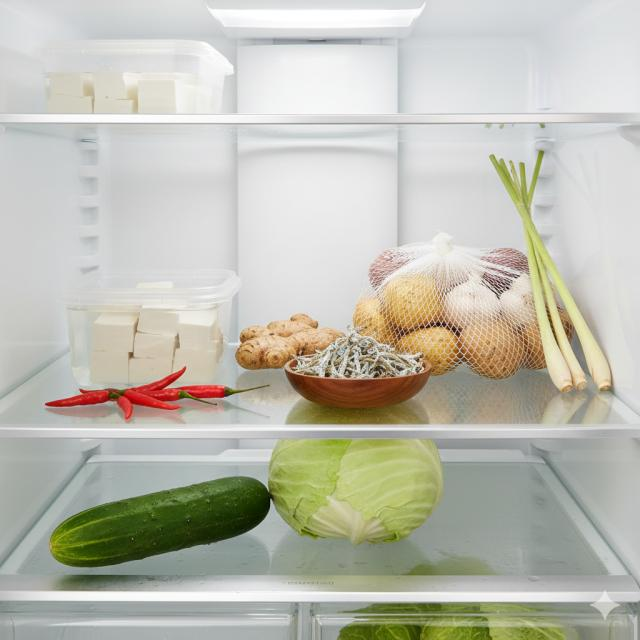anchovies: (290, 326, 427, 380)
cabbage: (268, 438, 443, 546)
chili: (43, 367, 269, 420)
cucumber: (50, 475, 272, 569)
ginger: (235, 314, 346, 371)
lemongrass: (489, 150, 612, 392)
potato: (354, 272, 548, 378)
tofu: (89, 281, 221, 386)
